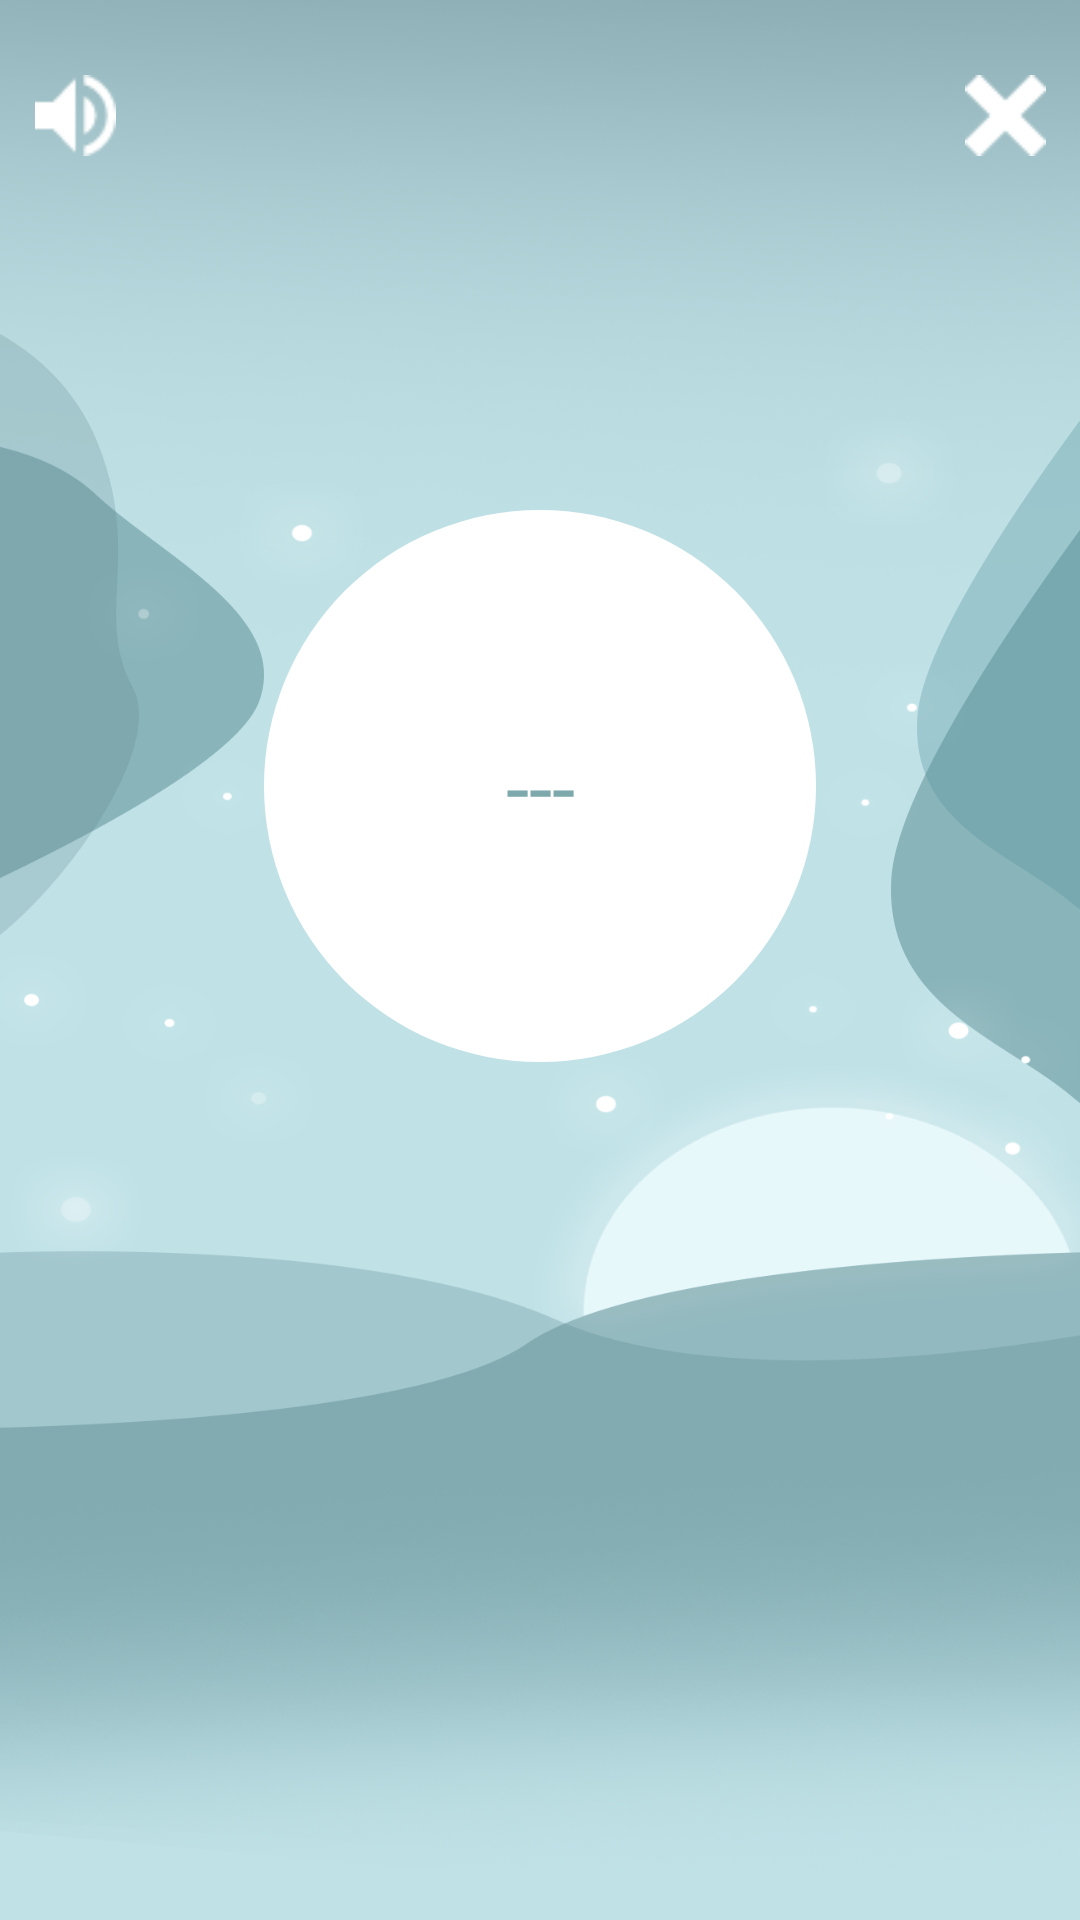

Named icons in this screenshot (1080px×1920px) and their centers, (x,y):
cross: (1005,115)
volume: (75,115)
